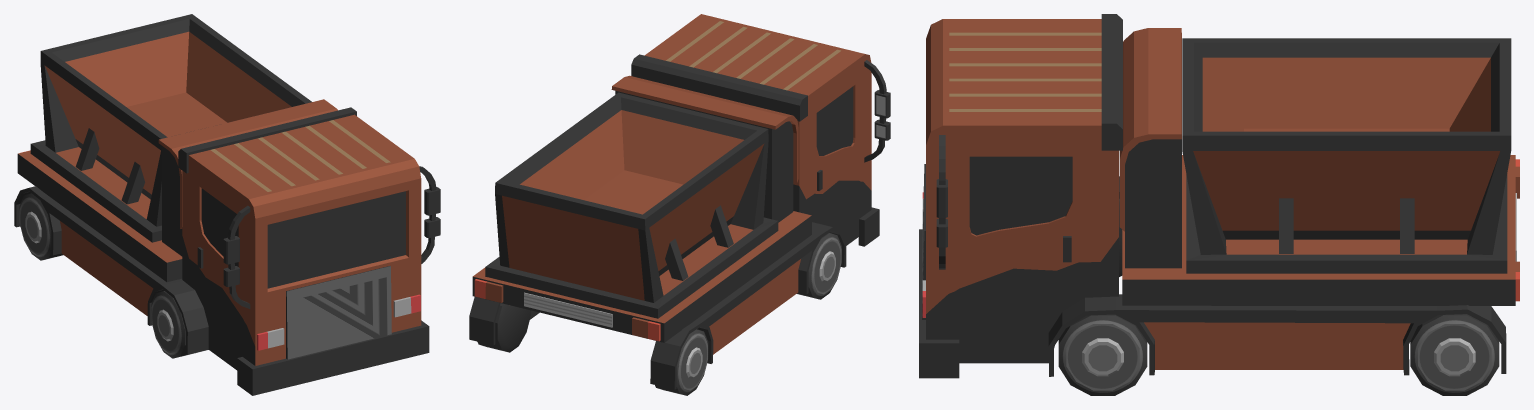
The model's file is truck01_color03.fbx.
3 renders of one model, left to right at view 1: azimuth 30°, elevation 25°; view 2: azimuth 150°, elevation 25°; view 3: azimuth 270°, elevation 25°, orthographic. The views are drawn at different scales.
Visible parts, largest first — view 1: Cube.433, Cylinder.017, Cylinder.018; view 2: Cube.433, Cylinder.017, Cylinder.018, Cylinder.019; view 3: Cube.433, Cylinder.019, Cylinder.020.
Part boxes in pixels (left/top/right/bottom): Cube.433: left=14, top=14, right=440, bottom=395; Cylinder.017: left=151, top=291, right=195, bottom=358; Cylinder.018: left=19, top=193, right=63, bottom=260; Cube.433: left=469, top=14, right=890, bottom=389; Cylinder.017: left=797, top=233, right=841, bottom=299; Cylinder.018: left=655, top=329, right=708, bottom=395; Cylinder.019: left=477, top=303, right=530, bottom=352; Cube.433: left=919, top=14, right=1519, bottom=378; Cylinder.019: left=1410, top=314, right=1499, bottom=395; Cylinder.020: left=1058, top=314, right=1147, bottom=395.
Size of the model in its own units: 304 by 269 by 559.
